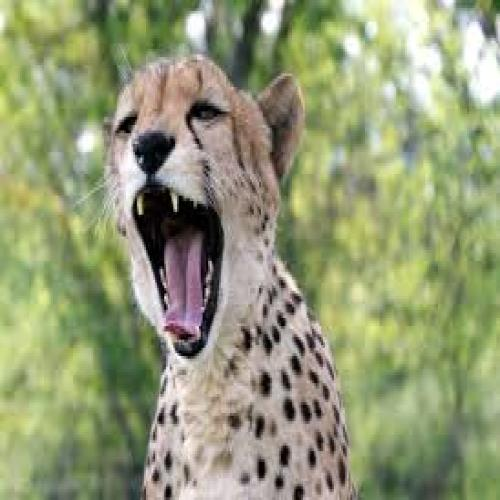cheetah-endangered: (103, 56, 355, 500)
